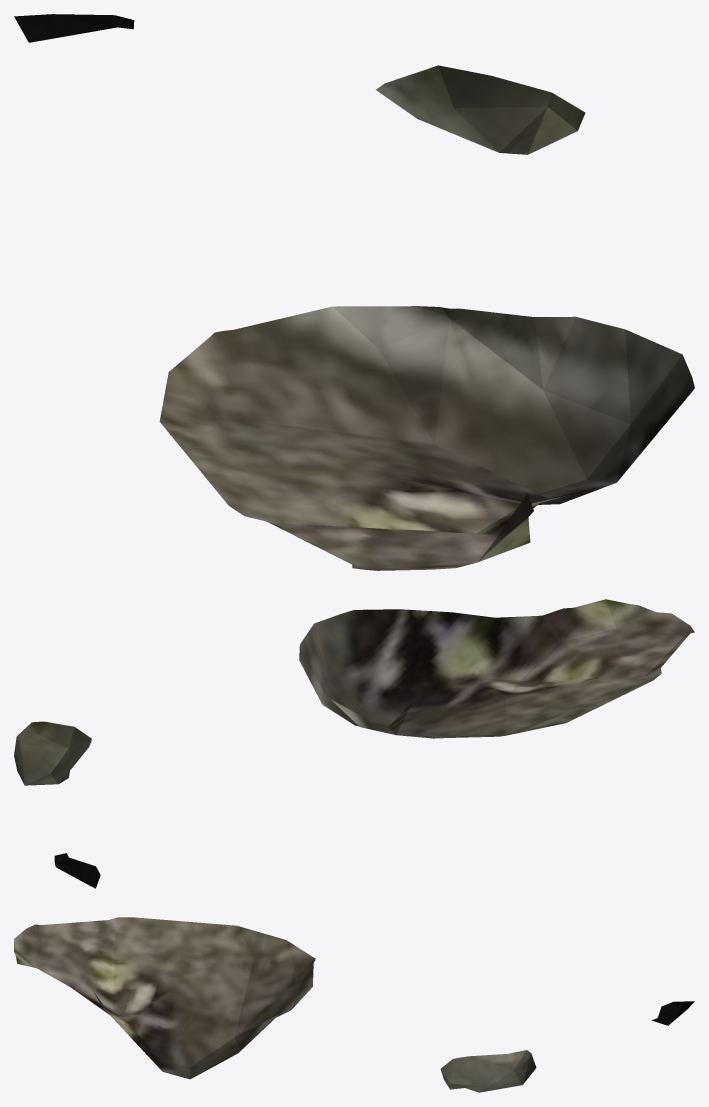
The picture shows the model from 3 angles, top to bottom: view 1: azimuth 30°, elevation 25°; view 2: azimuth 150°, elevation 25°; view 3: azimuth 270°, elevation 25°; orthographic projection. The views are drawn at different scales.
Size of the model in its own units: 1.05 by 0.1795 by 1.82.
1 material, 1 textured.
